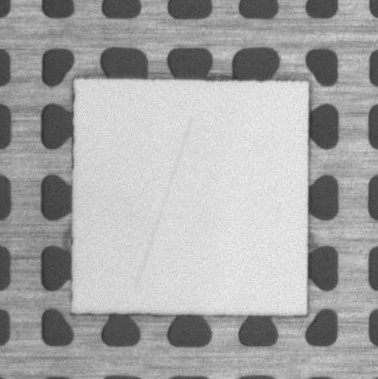DIE_CRACK: (136, 118, 191, 288)
